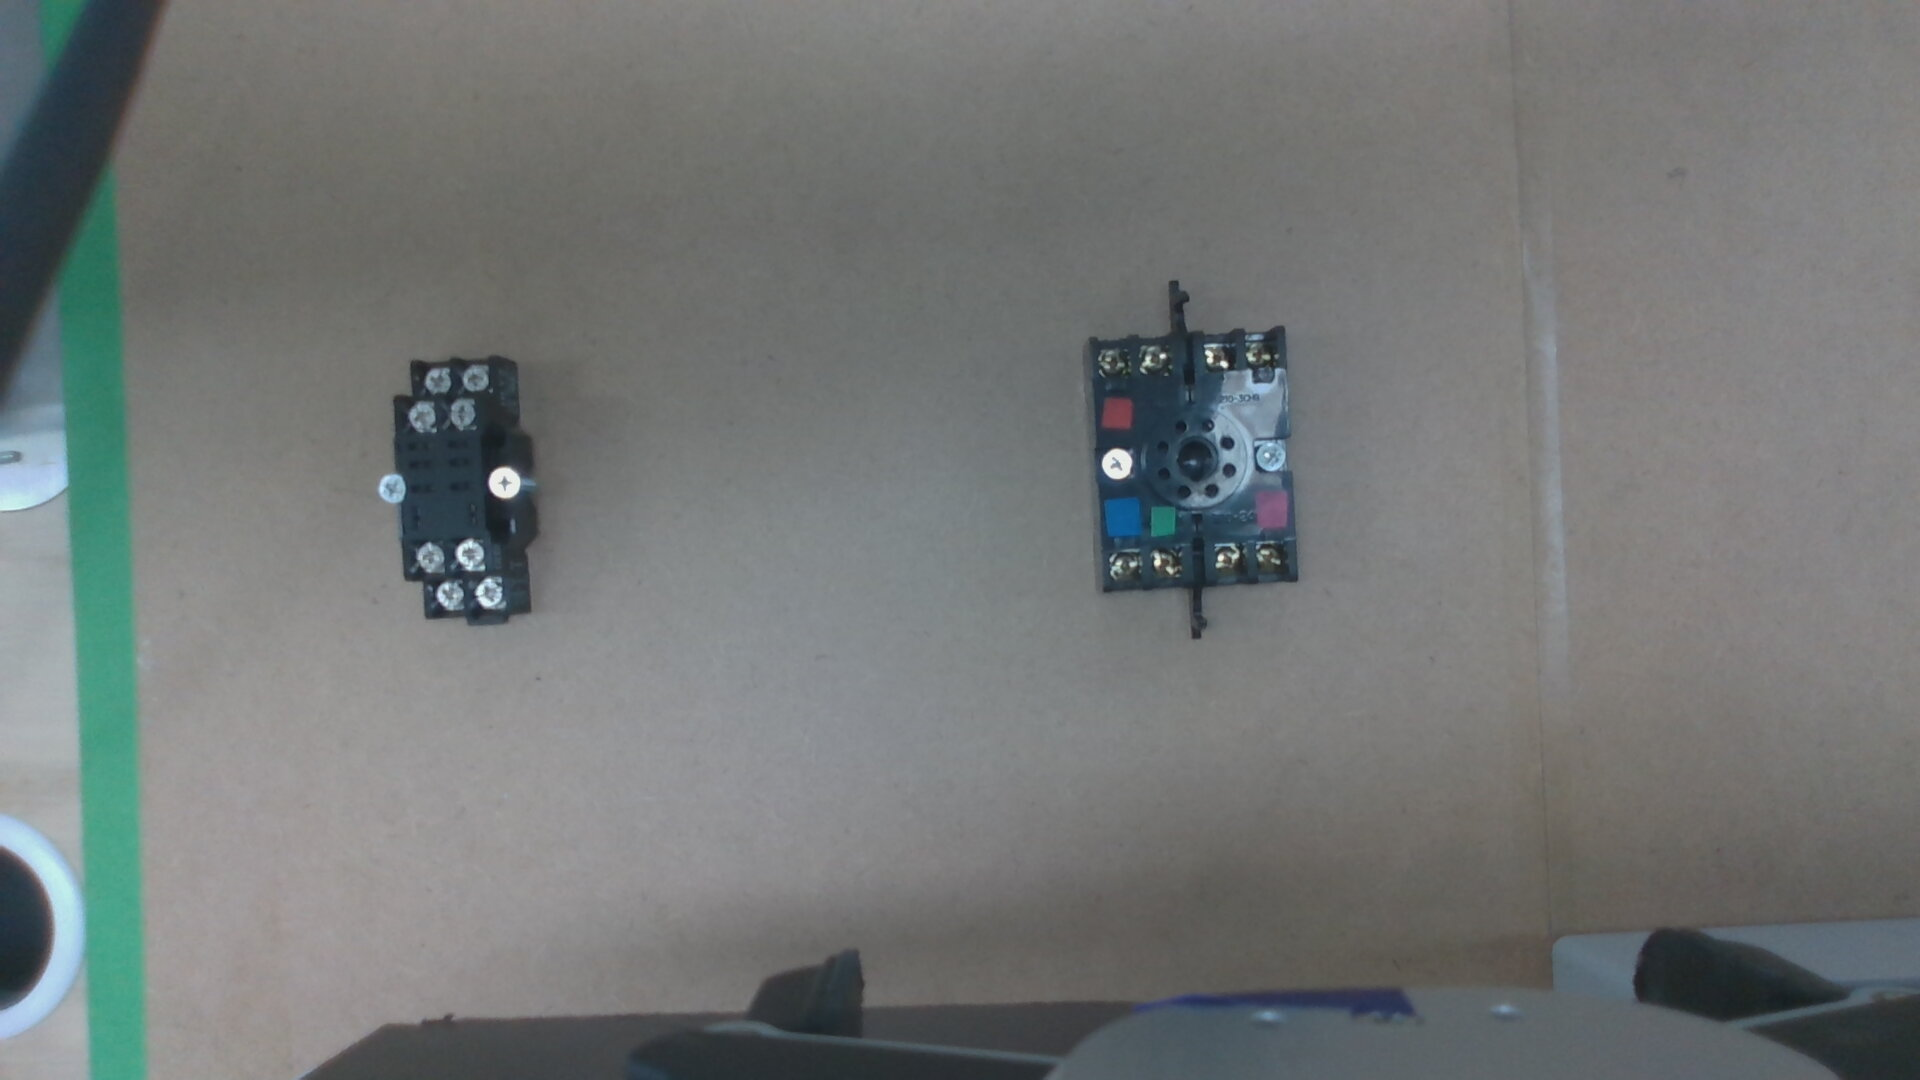timer 2: (1257, 541, 1283, 574)
timer 6: (1096, 349, 1127, 375)
timer 7: (1109, 553, 1139, 580)
timer 8: (1150, 549, 1180, 579)
